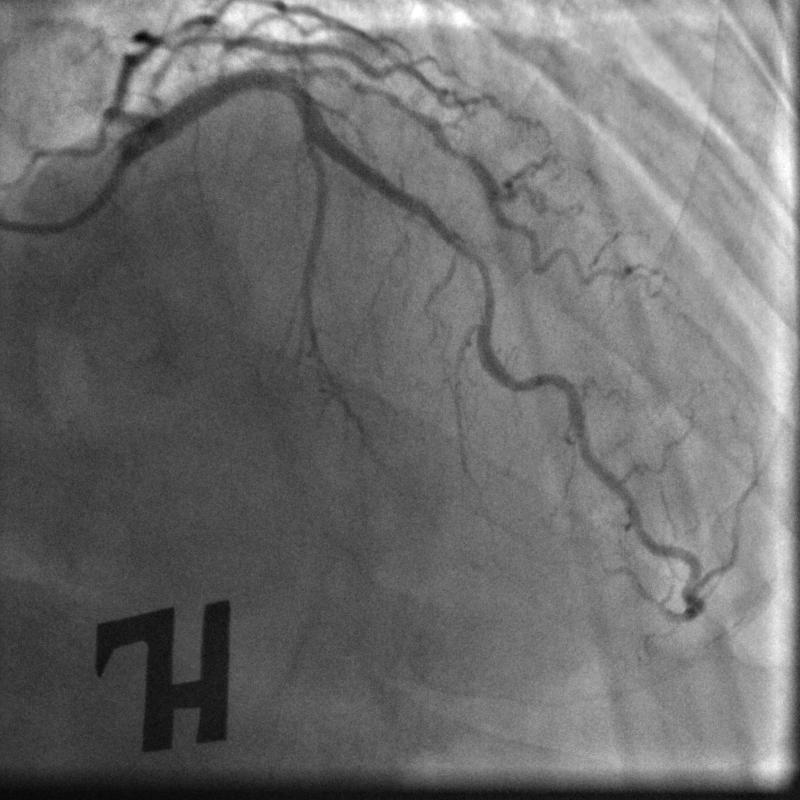Stenosis: (460, 244, 500, 321)
